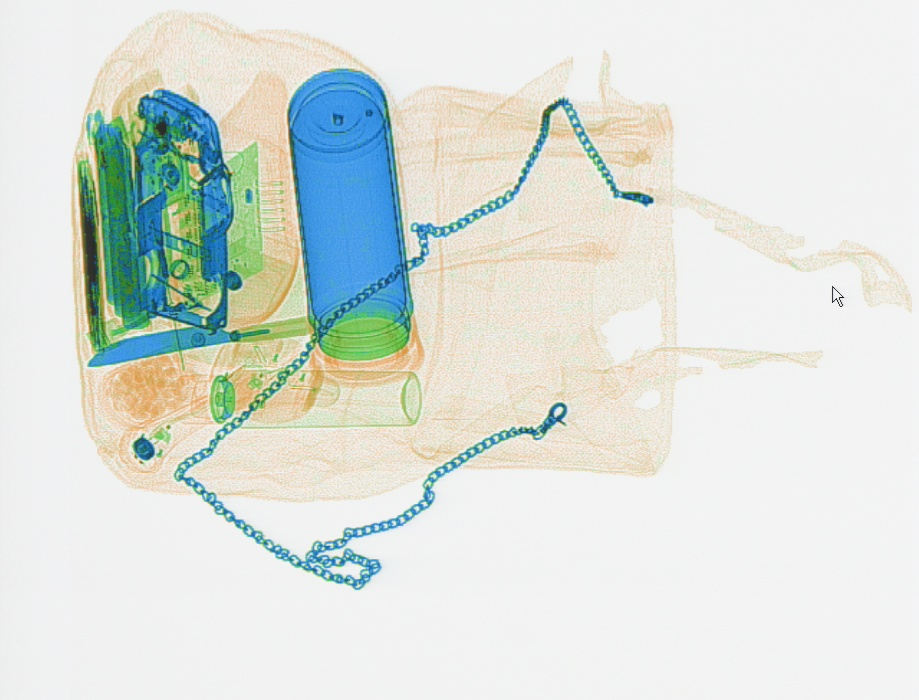knife: (85, 313, 317, 368)
powerbank: (90, 118, 154, 336)
pressure: (170, 367, 423, 431)
